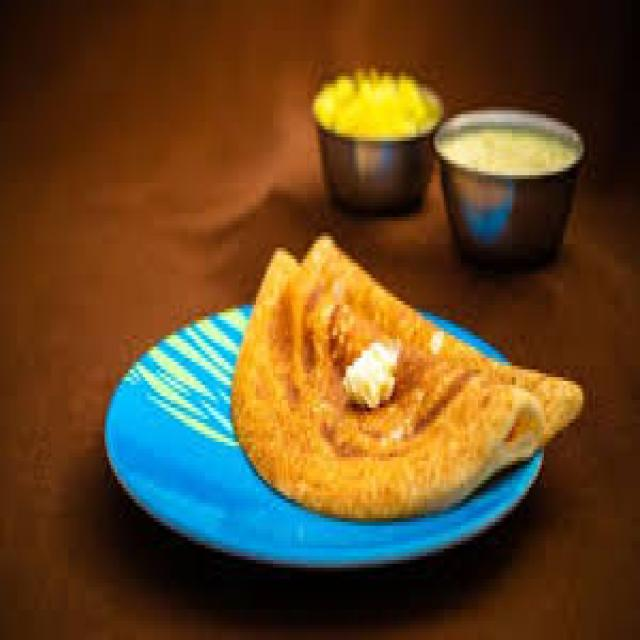DOSA: (233, 236, 582, 514)
